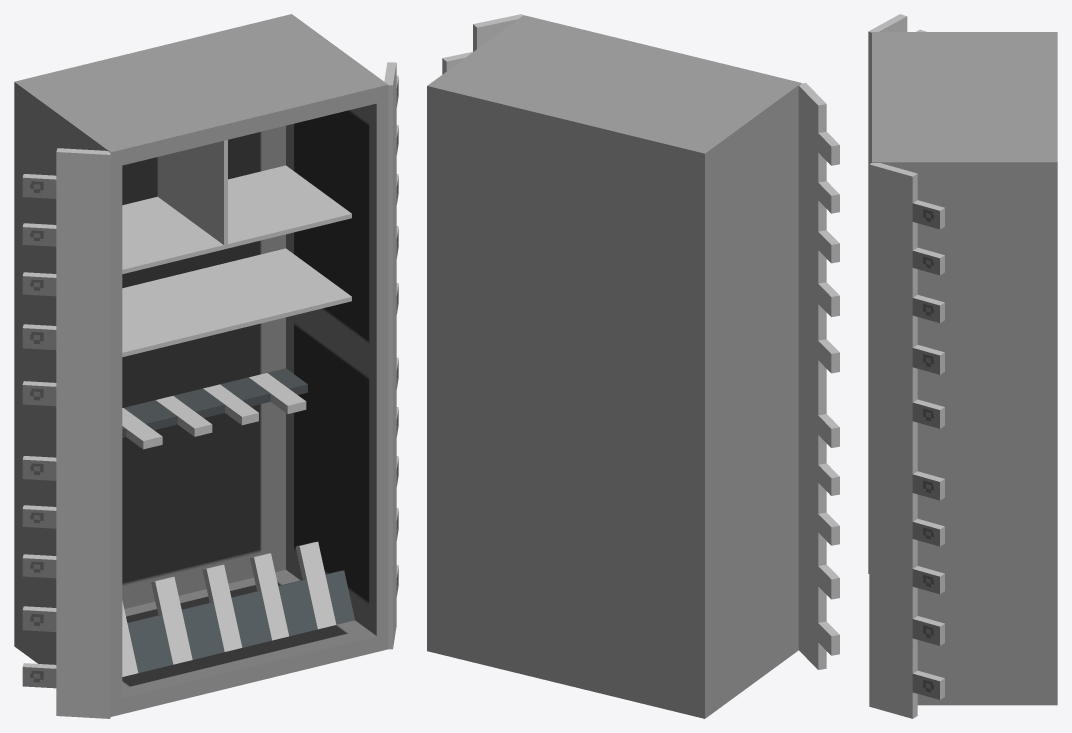
File: SA_WEaponsRackMetalic.fbx
3 renders of one model, left to right at view 1: azimuth 30°, elevation 25°; view 2: azimuth 150°, elevation 25°; view 3: azimuth 270°, elevation 25°, orthographic. The views are drawn at different scales.
Parts seen in each view (by area): view 1: WeaponRackMEtallic; view 2: WeaponRackMEtallic; view 3: WeaponRackMEtallic.
Boxes of the visible parts, left/top/right/bottom form: WeaponRackMEtallic: left=14, top=14, right=398, bottom=718; WeaponRackMEtallic: left=427, top=14, right=839, bottom=718; WeaponRackMEtallic: left=868, top=14, right=1057, bottom=718.
Size of the model in its own units: 1.66 by 2.31 by 0.7309.
Materials: 1 (1 with a texture image).
